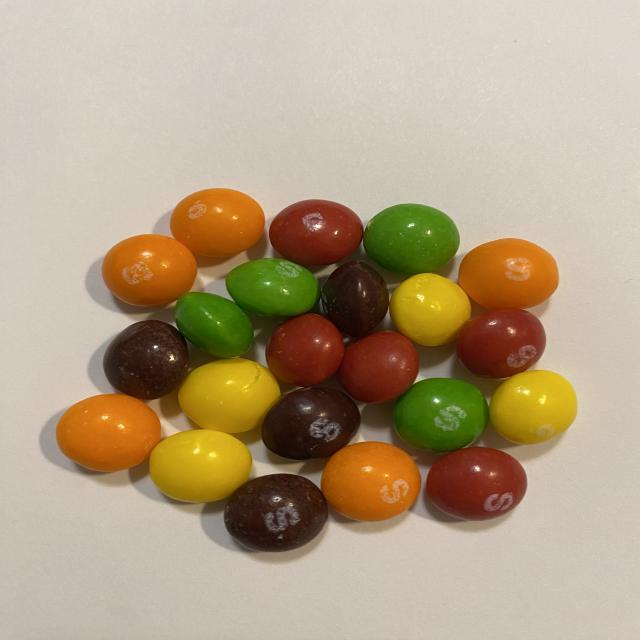smartie: (223, 474, 328, 553), (55, 394, 160, 472), (321, 442, 421, 522), (178, 358, 280, 434), (426, 447, 527, 522), (148, 430, 251, 503), (261, 388, 361, 461), (393, 379, 489, 453), (459, 238, 559, 309), (363, 203, 460, 275), (100, 234, 196, 306), (102, 320, 188, 400), (490, 370, 578, 445), (169, 188, 264, 257), (457, 308, 546, 378), (269, 199, 363, 265), (389, 273, 471, 346), (338, 331, 419, 403), (265, 314, 344, 387), (225, 258, 321, 317), (321, 260, 389, 337), (174, 292, 253, 358)
